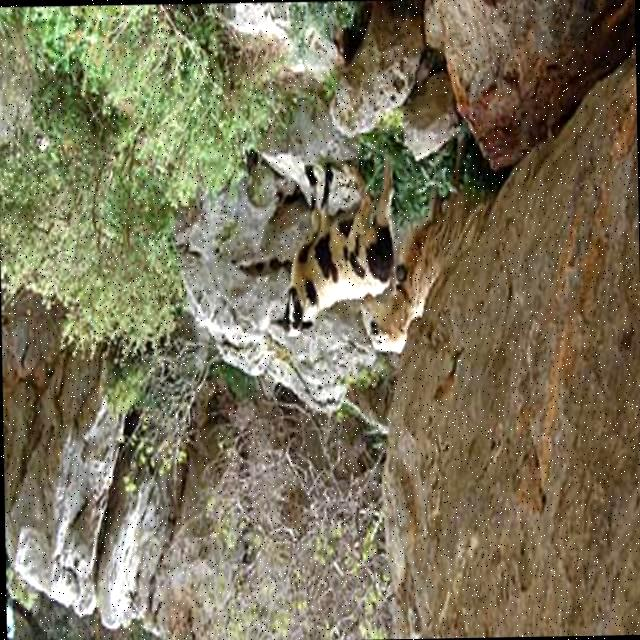sheep: (269, 162, 391, 334), (359, 186, 472, 351)
